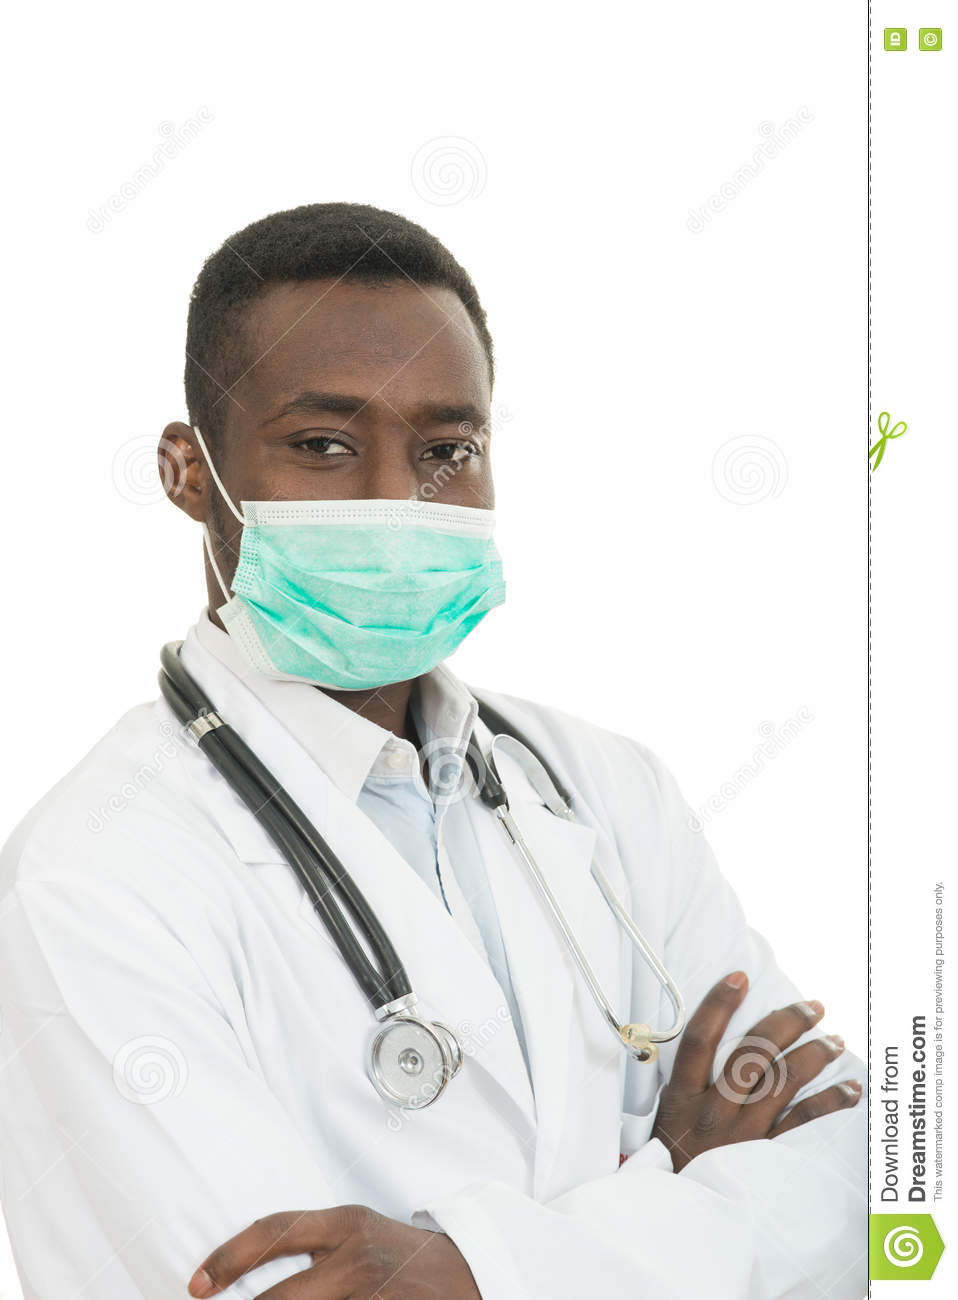mask: (227, 505, 545, 711)
